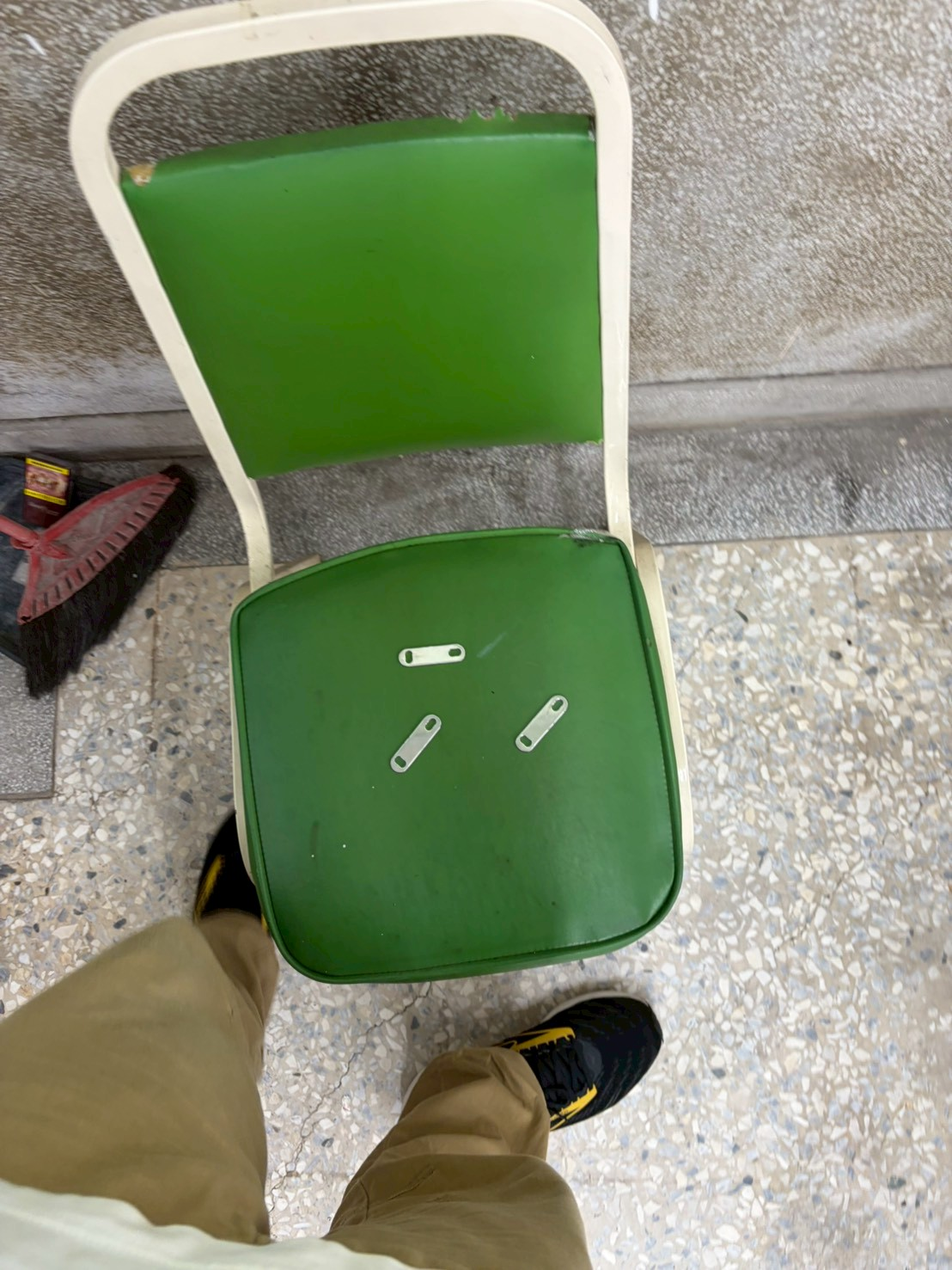Fe: (377, 705, 450, 774), (504, 691, 575, 756), (391, 638, 474, 670)
